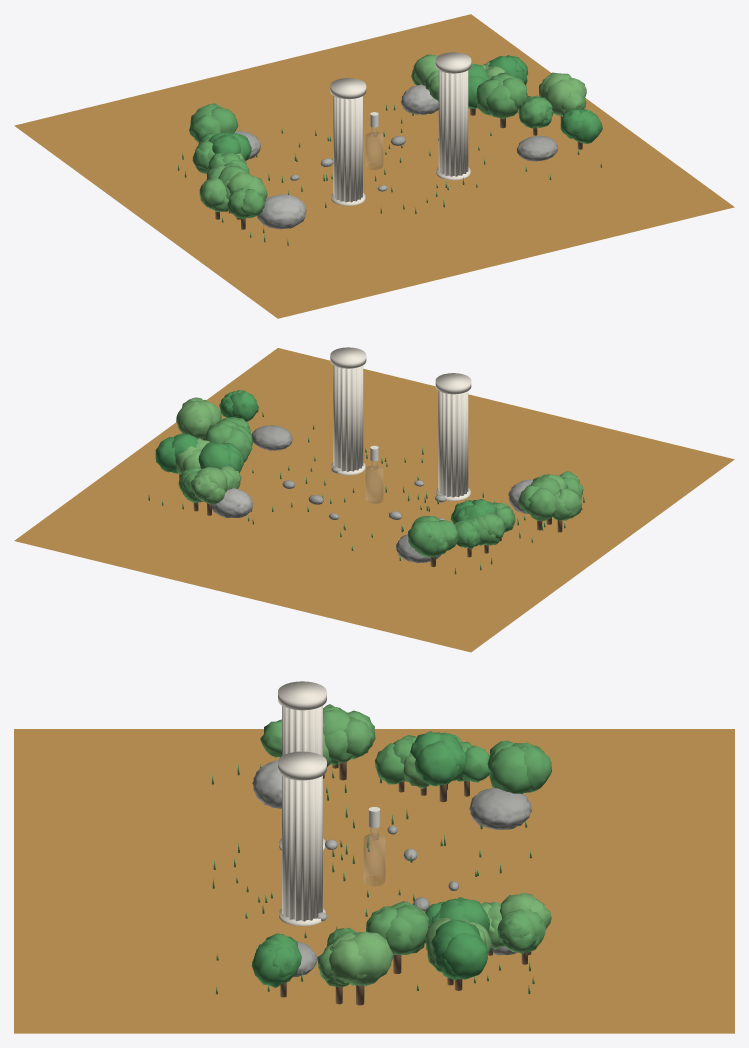
Rendered from nur_ferdiansyah.glb.
3 renders of one model, top to bottom at view 1: azimuth 30°, elevation 25°; view 2: azimuth 150°, elevation 25°; view 3: azimuth 270°, elevation 25°, orthographic. The views are drawn at different scales.
Visible parts, largest first — view 1: Lantai_Air, Pilar_Kanan, Pilar_Kiri, Pohon_Daun_0.009, Batu.002, Pohon_Daun_0.016, Pohon_Daun_0.012, Pohon_Daun_0.010, Pohon_Daun_0.006, Pohon_Daun_0.013, Batu.001, Batu.003 (+8 smaller); view 2: Lantai_Air, Pilar_Kiri, Pilar_Kanan, Pohon_Daun_0.016, Pohon_Daun_0.003, Pohon_Daun_0.012, Pohon_Daun_0.019, Pohon_Daun_0.009, Pohon_Daun_0.017, Pohon_Daun_0.008, Pohon_Daun_0.010, Batu.001 (+7 smaller); view 3: Lantai_Air, Pilar_Kanan, Pilar_Kiri, Pohon_Daun_0.012, Pohon_Daun_0.016, Pohon_Daun_0.008, Pohon_Daun_0.015, Pohon_Daun_0.009, Pohon_Daun_0.003, Batu, Pohon_Daun_0.010, Pohon_Daun_0.018 (+8 smaller).
Boxes of the visible parts, x1,y1,x2,y2 form: Lantai_Air: [14, 14, 734, 318]; Pilar_Kanan: [435, 52, 471, 180]; Pilar_Kiri: [330, 78, 366, 205]; Pohon_Daun_0.009: [476, 72, 527, 118]; Batu.002: [257, 194, 306, 229]; Pohon_Daun_0.016: [189, 103, 238, 142]; Pohon_Daun_0.012: [539, 72, 586, 115]; Pohon_Daun_0.010: [560, 109, 602, 143]; Pohon_Daun_0.006: [227, 187, 264, 218]; Pohon_Daun_0.013: [518, 95, 553, 128]; Batu.001: [401, 84, 438, 114]; Batu.003: [516, 135, 557, 161]; Lantai_Air: [14, 348, 734, 652]; Pilar_Kiri: [435, 373, 471, 500]; Pilar_Kanan: [330, 347, 366, 475]; Pohon_Daun_0.016: [408, 516, 459, 557]; Pohon_Daun_0.003: [518, 477, 561, 521]; Pohon_Daun_0.012: [176, 397, 221, 439]; Pohon_Daun_0.019: [190, 467, 227, 504]; Pohon_Daun_0.009: [204, 420, 252, 462]; Pohon_Daun_0.017: [198, 442, 243, 472]; Pohon_Daun_0.008: [155, 433, 198, 473]; Pohon_Daun_0.010: [219, 390, 258, 421]; Batu.001: [212, 488, 253, 517]; Lantai_Air: [14, 729, 734, 1033]; Pilar_Kanan: [278, 751, 326, 925]; Pilar_Kiri: [278, 681, 326, 850]; Pohon_Daun_0.012: [328, 932, 393, 986]; Pohon_Daun_0.016: [487, 740, 551, 793]; Pohon_Daun_0.008: [431, 919, 487, 979]; Pohon_Daun_0.015: [410, 731, 466, 786]; Pohon_Daun_0.009: [366, 901, 429, 954]; Pohon_Daun_0.003: [323, 709, 375, 765]; Batu: [469, 787, 531, 829]; Pohon_Daun_0.010: [251, 933, 301, 987]; Pohon_Daun_0.018: [497, 906, 545, 954].
Size of the model in its own units: 20 by 4.98 by 20.
